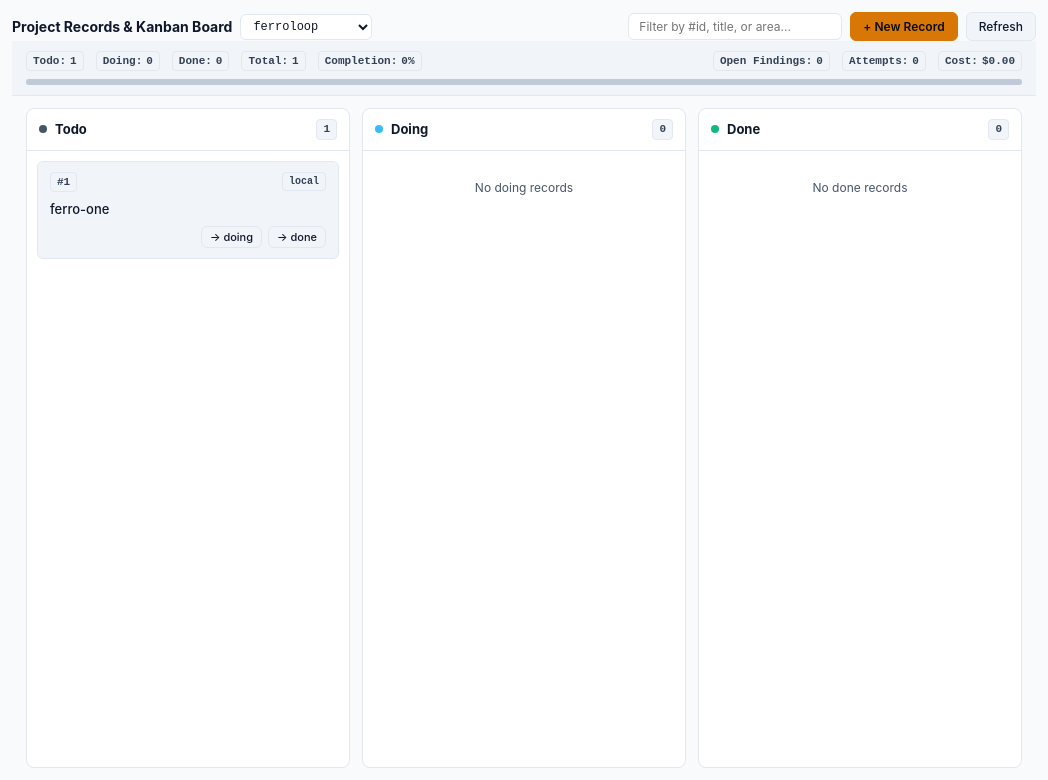
Test: RecordsBoardPane — answers that arrive after the user left the project › does not apply a move to a same-numbered card of the project now shown
The image size is (1048, 780).
Click the button with test id "move-record-1-done". click: (297, 237)
box: [268,226,326,248]
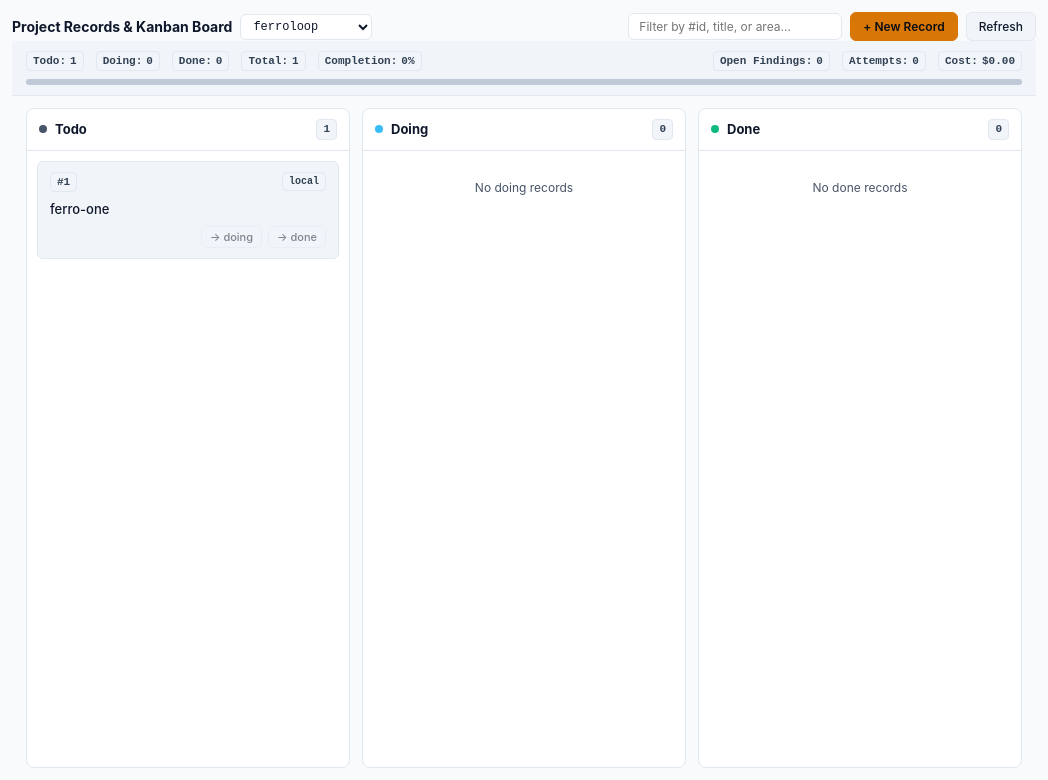
Select "sonora" in the dropdown with test id "board-project-select". click: (306, 26)
box: [240,14,372,40]
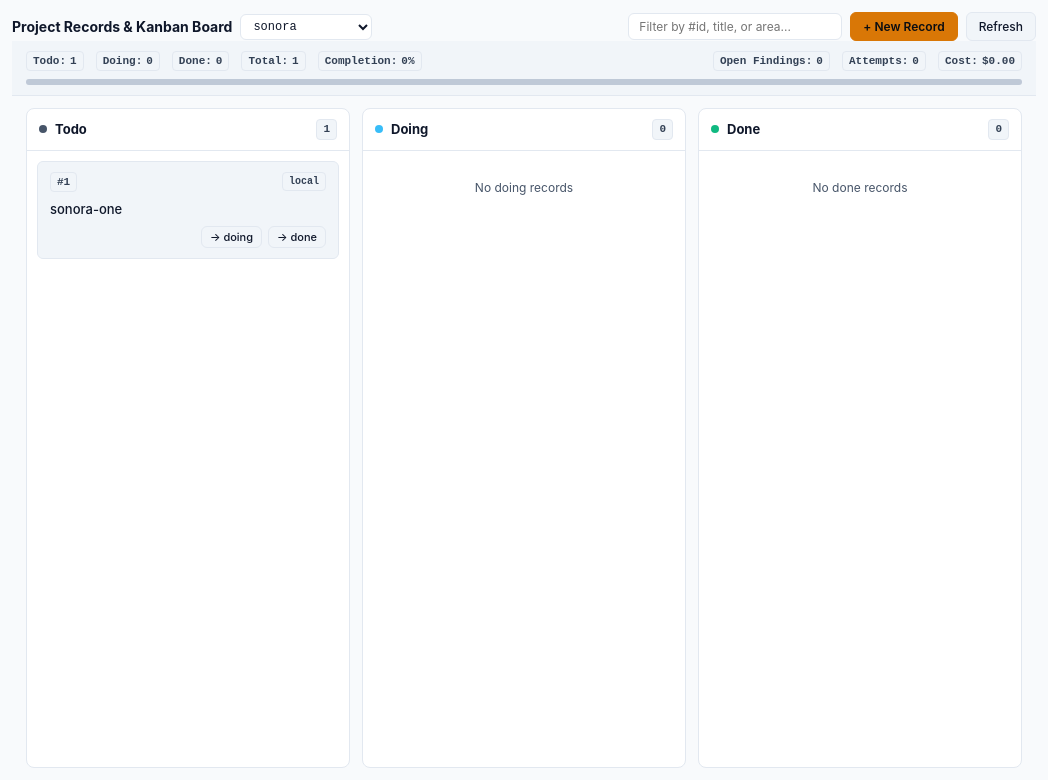
Now the element with test id "^record-card-" shows "sonora-one", box [50,201,122,217]
Now the element with test id "record-card-1" shows "sonora-one", box [50,201,122,217]
Now the text with test id "^record-card-" no longer shows "ferro-one"
